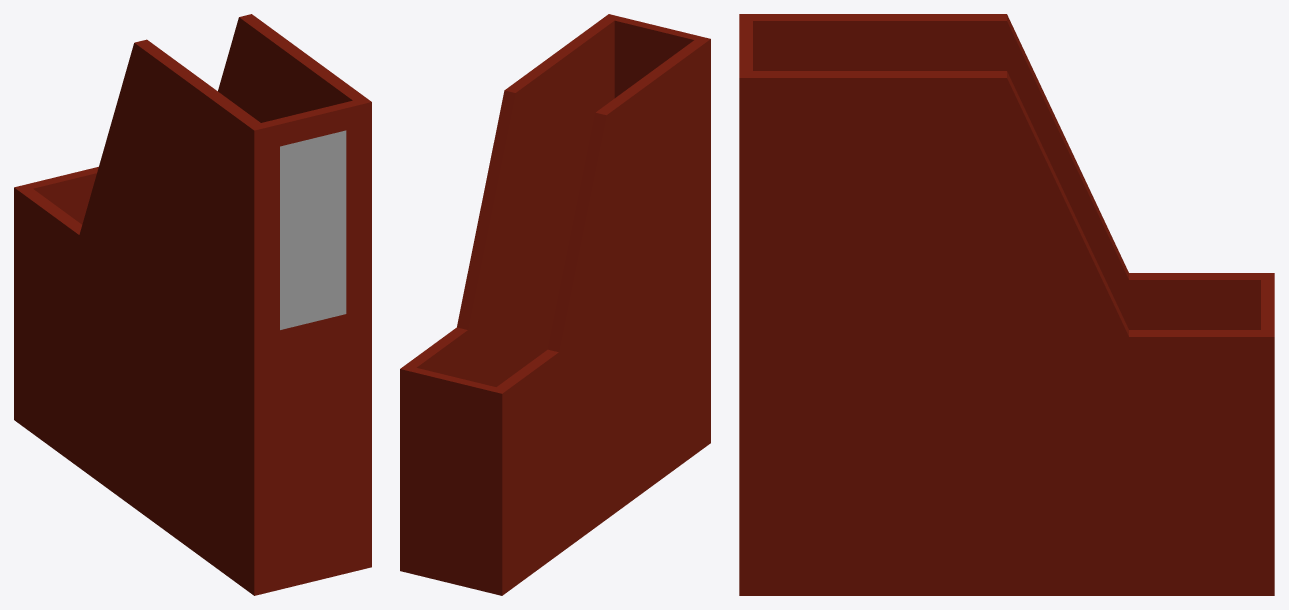
The model's file is FileHolderV2Red.fbx.
3 views of the same model, side by side, from view 1: azimuth 30°, elevation 25°; view 2: azimuth 150°, elevation 25°; view 3: azimuth 270°, elevation 25° (orthographic). The views are drawn at different scales.
Parts seen in each view (by area): view 1: FileHolderV2Red; view 2: FileHolderV2Red; view 3: FileHolderV2Red.
Boxes of the visible parts, x1=… form: FileHolderV2Red: x1=14, y1=14, x2=371, y2=595; FileHolderV2Red: x1=400, y1=14, x2=710, y2=595; FileHolderV2Red: x1=739, y1=14, x2=1274, y2=595.
Bounding box in the file's own units: 7.39 × 27.94 × 26.15.
